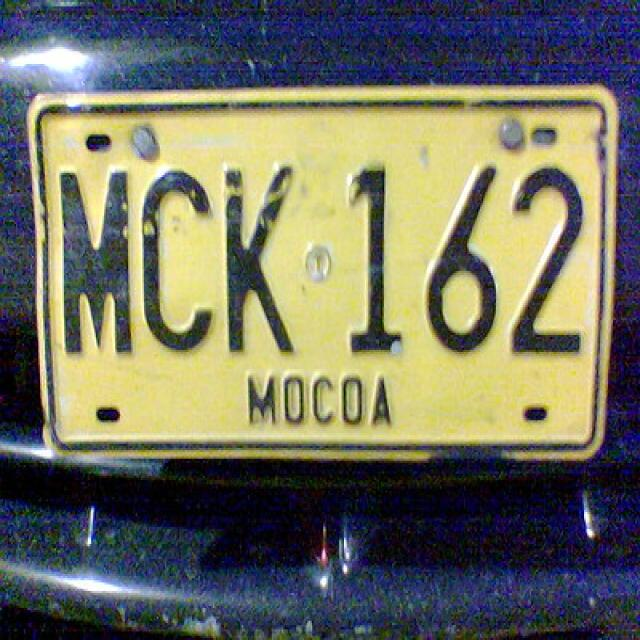placa_carro: (26, 76, 622, 480)
